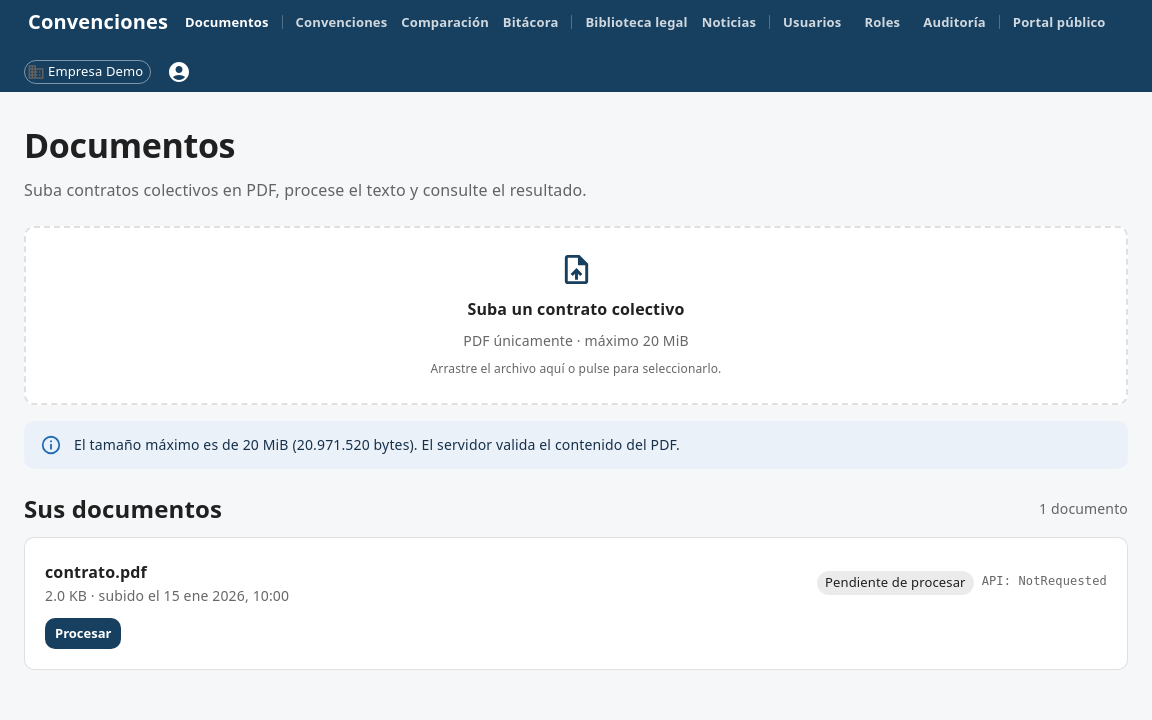
DocumentsPage › processes a document and opens the extracted text
The width and height of the screenshot is (1152, 720).
Click the button "Procesar".
click(83, 633)  # box [45,618,121,649]
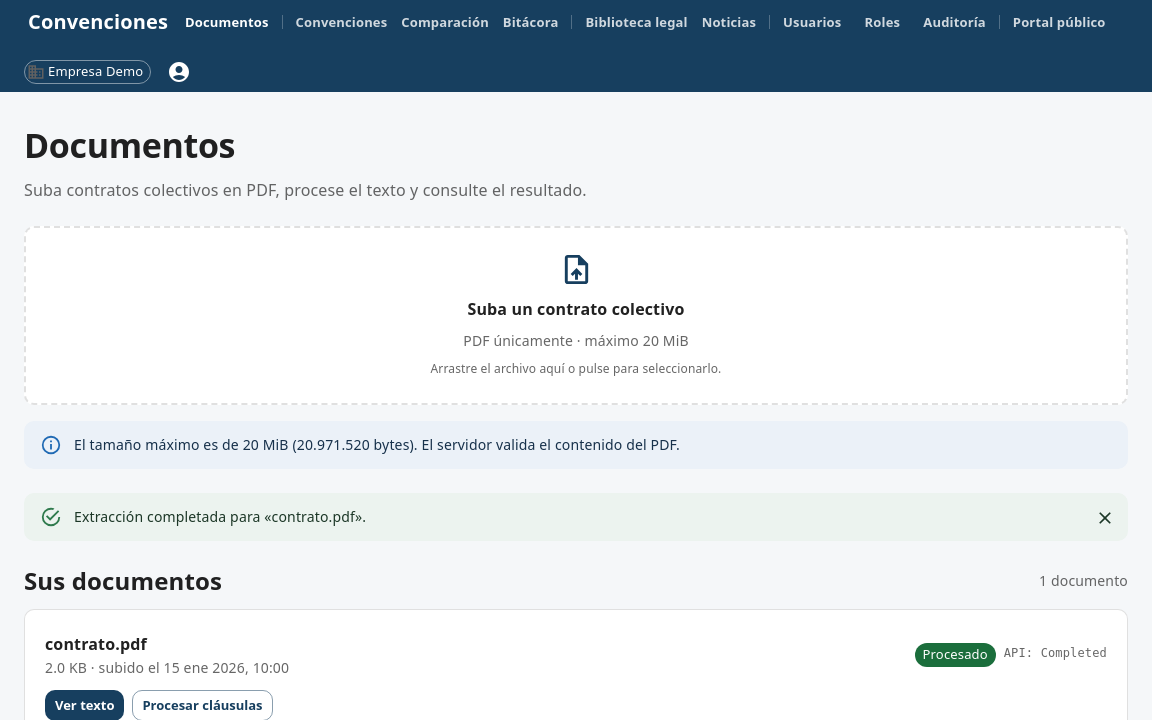
expect the text "Procesado" is shown: met, box [923,645,988,663]
Click the button "Ver texto".
click(85, 705)  # box [45,690,124,719]
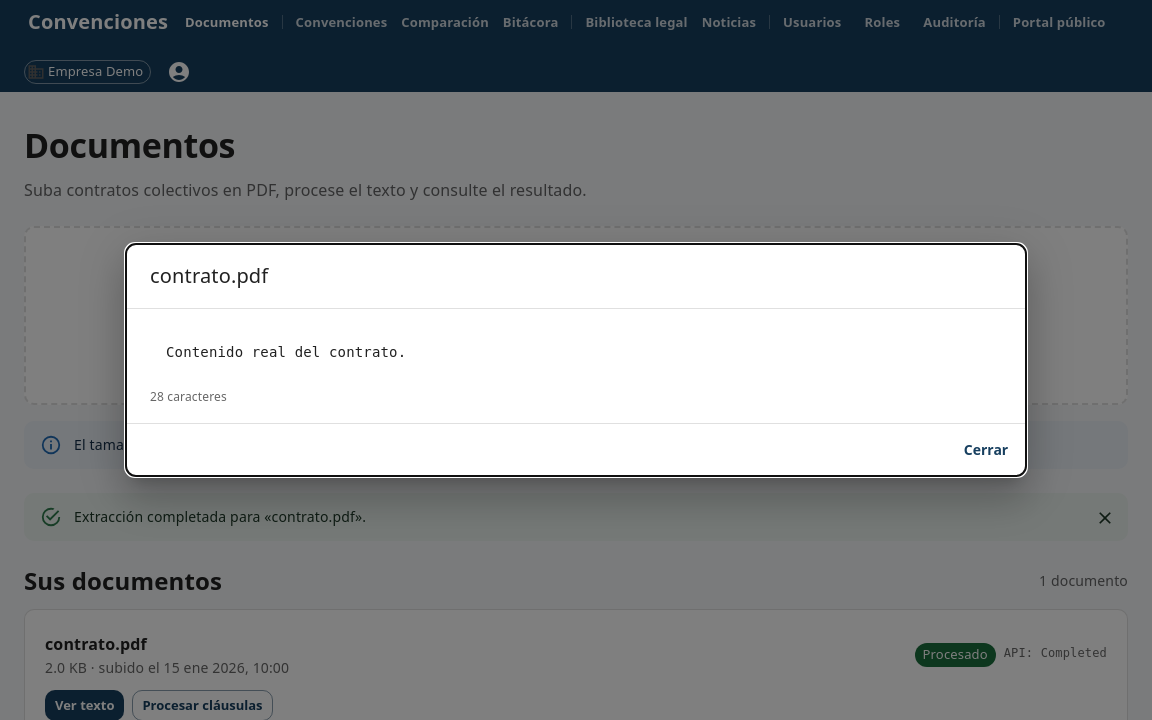
expect the text with test id "document-text" reads "Contenido real del contrato.": met, box [166,344,406,360]
